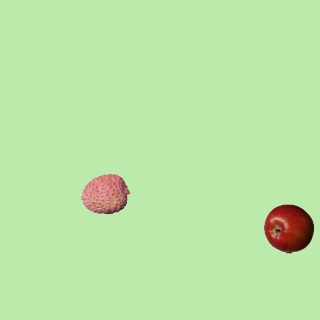Apple Braeburn: (263, 203, 313, 253)
Lychee: (80, 168, 130, 218)
